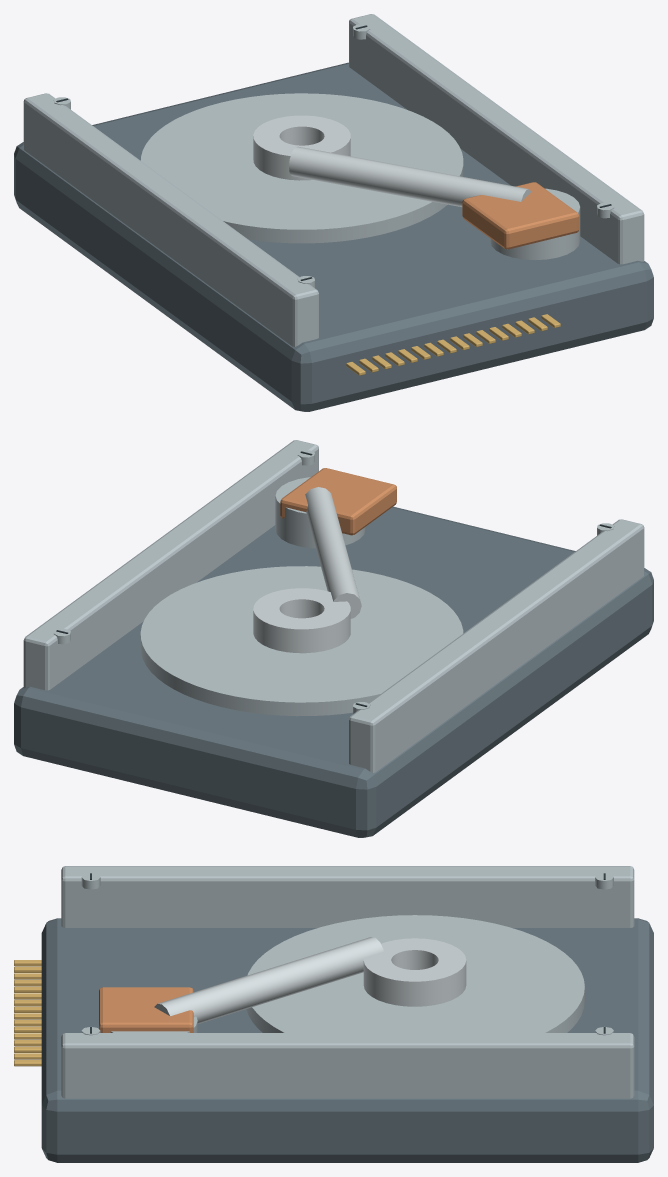
File: loot_hard_drive.glb
3 renders of one model, top to bottom at view 1: azimuth 30°, elevation 25°; view 2: azimuth 150°, elevation 25°; view 3: azimuth 270°, elevation 25°, orthographic. The views are drawn at different scales.
Visible parts, largest first — view 1: loot_hard_drive; view 2: loot_hard_drive; view 3: loot_hard_drive.
Boxes of the visible parts, x1=… form: loot_hard_drive: x1=14, y1=14, x2=653, y2=411; loot_hard_drive: x1=14, y1=440, x2=653, y2=837; loot_hard_drive: x1=14, y1=866, x2=653, y2=1162.
Bounding box in the file's own units: 0.111 × 0.035 × 0.162.
